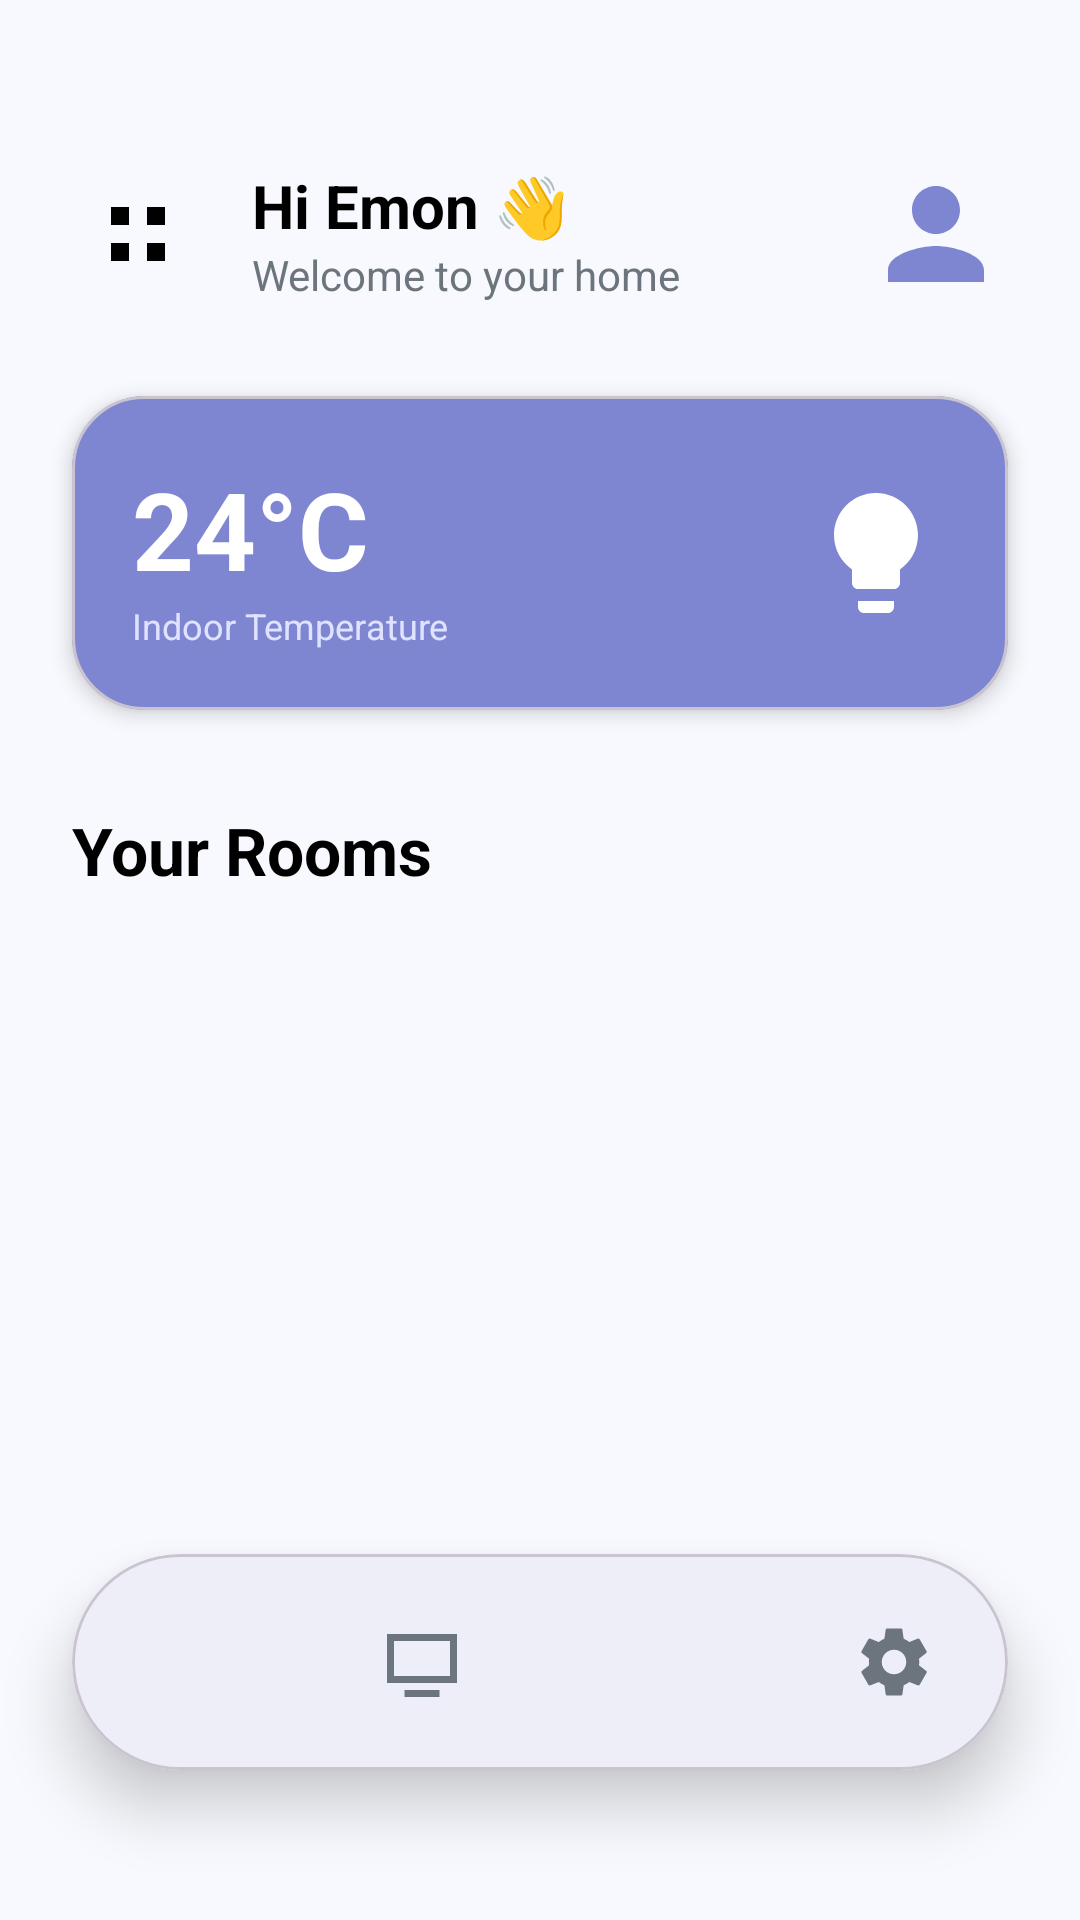

Where icons sit on this 1080w x 1920h app screen, as (x1, y1, x2, y2):
devices: (387, 1634, 457, 1697)
grid: (111, 207, 165, 261)
settings: (861, 1628, 927, 1696)
